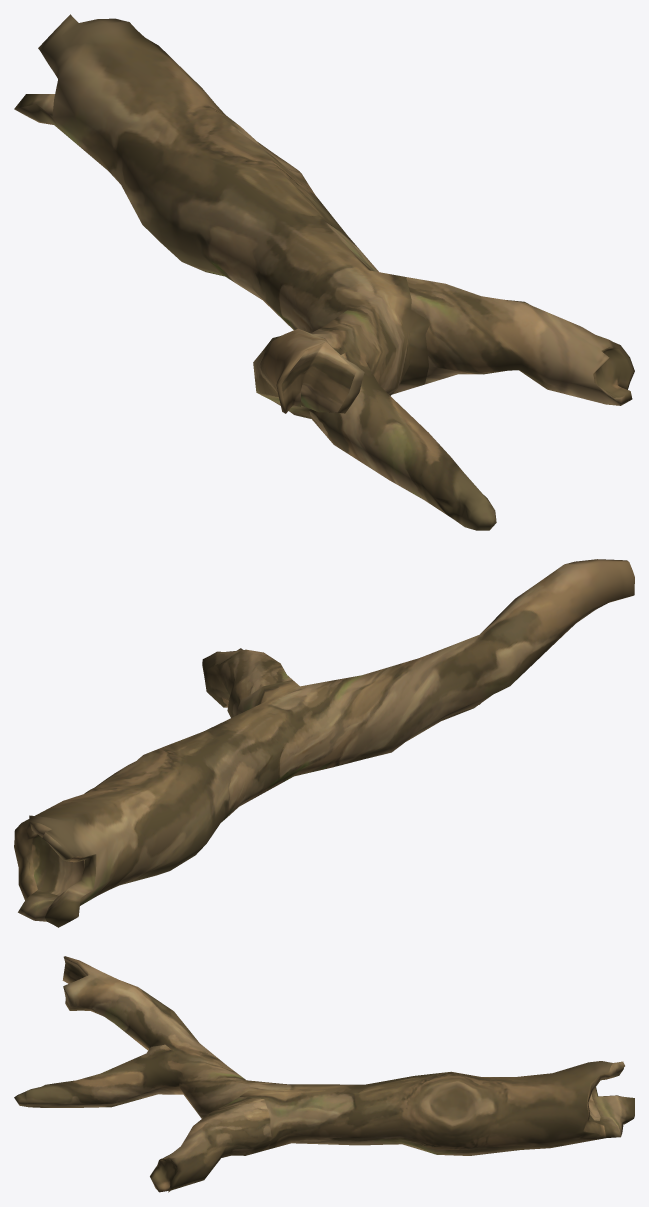
File: P_OakFallen1.obj
The picture shows the model from 3 angles, top to bottom: view 1: azimuth 30°, elevation 25°; view 2: azimuth 150°, elevation 25°; view 3: azimuth 270°, elevation 25°; orthographic projection. The views are drawn at different scales.
Bounding box in the file's own units: 4.29 × 1.87 × 8.72.
